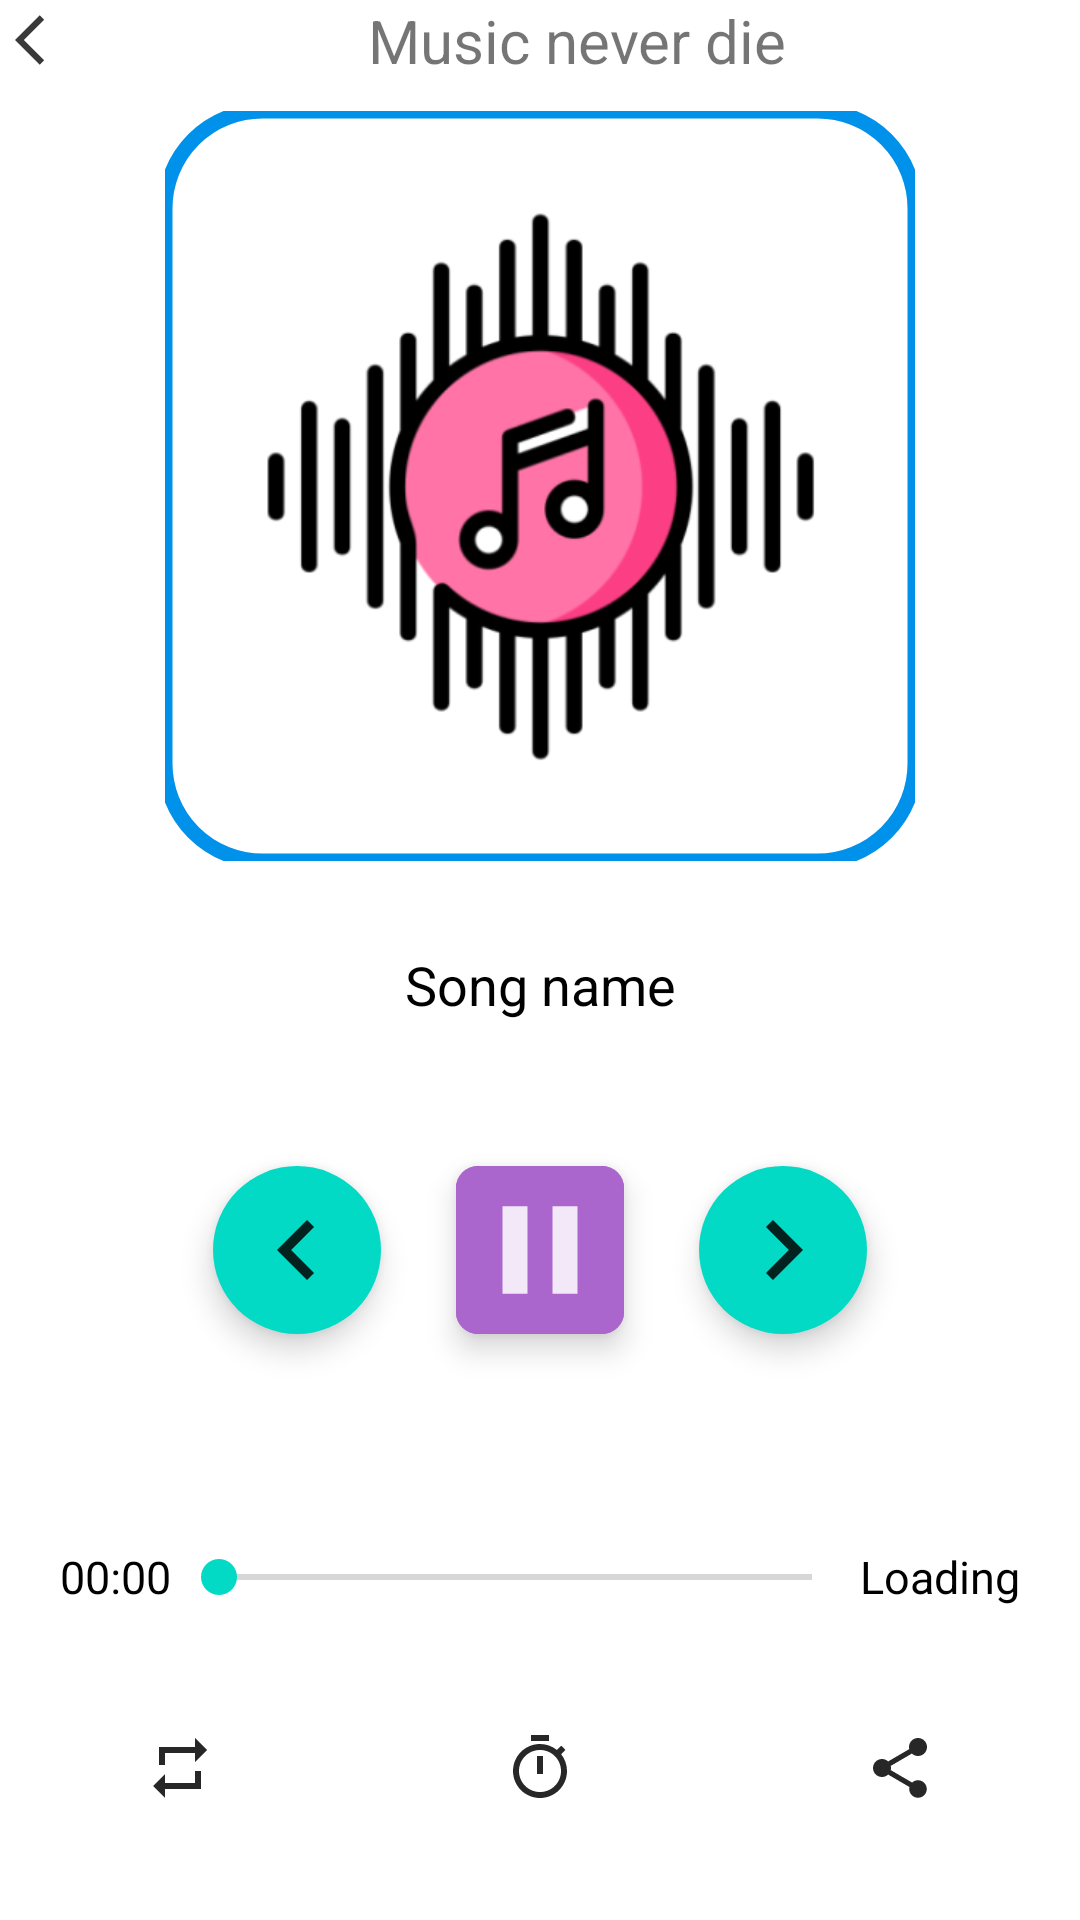

Icons on this 1080px×1920px Android screen, each with its box as (x1, y1, x2, y2):
back: (15, 15, 44, 65)
before: (213, 1166, 381, 1334)
next: (699, 1166, 867, 1334)
pause: (456, 1166, 624, 1334)
Repeat: (153, 1738, 207, 1798)
Share: (873, 1738, 927, 1798)
Timer: (513, 1735, 567, 1798)
